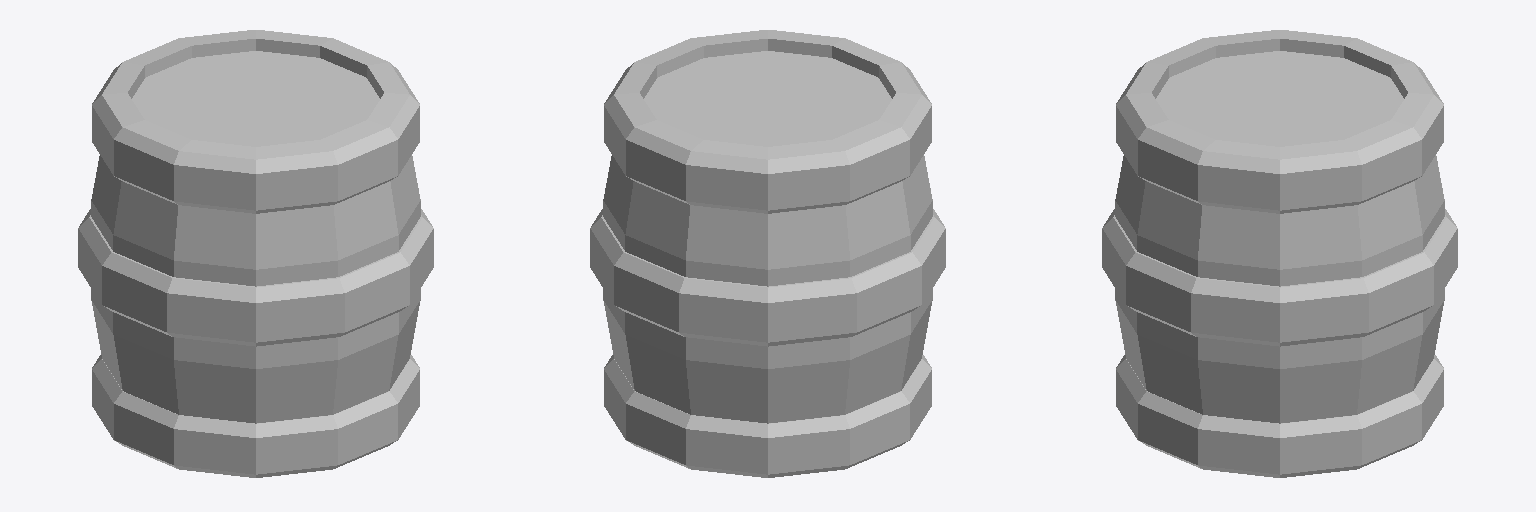
The model's file is barrel_low_2.obj.
3 views of the same model, side by side, from view 1: azimuth 30°, elevation 25°; view 2: azimuth 150°, elevation 25°; view 3: azimuth 270°, elevation 25° (orthographic).
Parts seen in each view (by area): view 1: pCylinder1, pTorus1, pTorus3, pTorus2; view 2: pCylinder1, pTorus1, pTorus3, pTorus2; view 3: pCylinder1, pTorus1, pTorus3, pTorus2.
Boxes of the visible parts, x1=… form: pCylinder1: x1=91, y1=51, x2=420, y2=423; pTorus1: x1=92, y1=30, x2=419, y2=213; pTorus3: x1=78, y1=209, x2=433, y2=346; pTorus2: x1=92, y1=355, x2=419, y2=477; pCylinder1: x1=603, y1=51, x2=932, y2=423; pTorus1: x1=604, y1=30, x2=931, y2=213; pTorus3: x1=590, y1=209, x2=945, y2=346; pTorus2: x1=604, y1=355, x2=931, y2=477; pCylinder1: x1=1115, y1=51, x2=1444, y2=423; pTorus1: x1=1116, y1=30, x2=1443, y2=213; pTorus3: x1=1102, y1=209, x2=1457, y2=346; pTorus2: x1=1116, y1=355, x2=1443, y2=477.
Bounding box in the file's own units: 2.42 × 2.45 × 2.42.